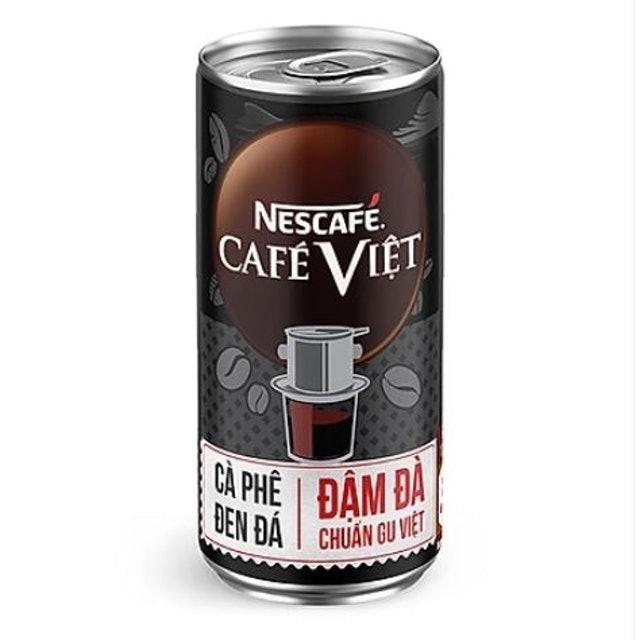metal: (196, 26, 443, 607)
